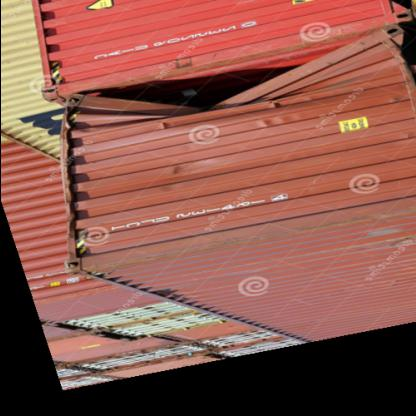Damage: (80, 54, 314, 140)
